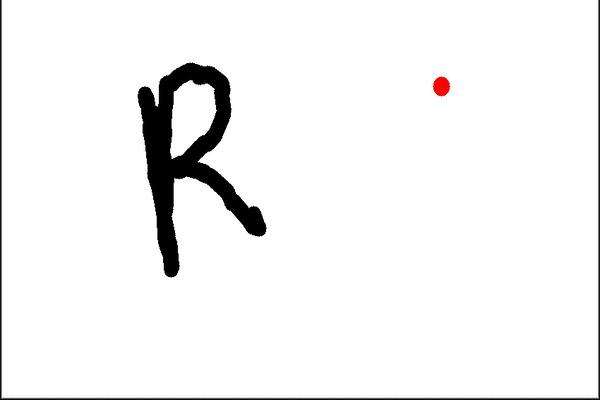R: (124, 58, 277, 278)
